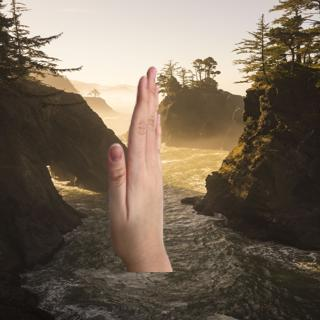Right: (106, 66, 178, 273)
